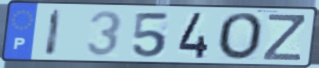3: (86, 9, 126, 59)
4: (177, 11, 211, 61)
5: (130, 11, 171, 60)
I: (43, 8, 64, 58)
O: (217, 11, 266, 62)
Z: (261, 12, 307, 63)
